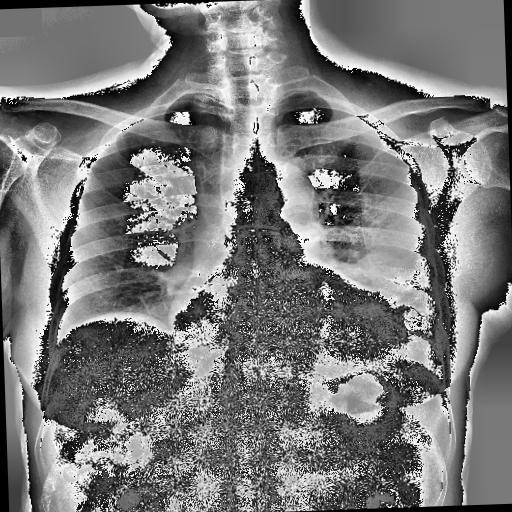0- Aortic enlargement: (249, 156, 320, 229), (260, 160, 321, 235), (256, 160, 314, 217)
3- Cardiomegaly: (166, 280, 410, 372), (167, 290, 402, 354), (164, 294, 404, 350)
4- Consolidation: (329, 248, 420, 303)
7- Lung Opacity: (352, 248, 452, 382), (354, 251, 408, 284)
8- Nodule-Mass: (352, 249, 410, 303)
